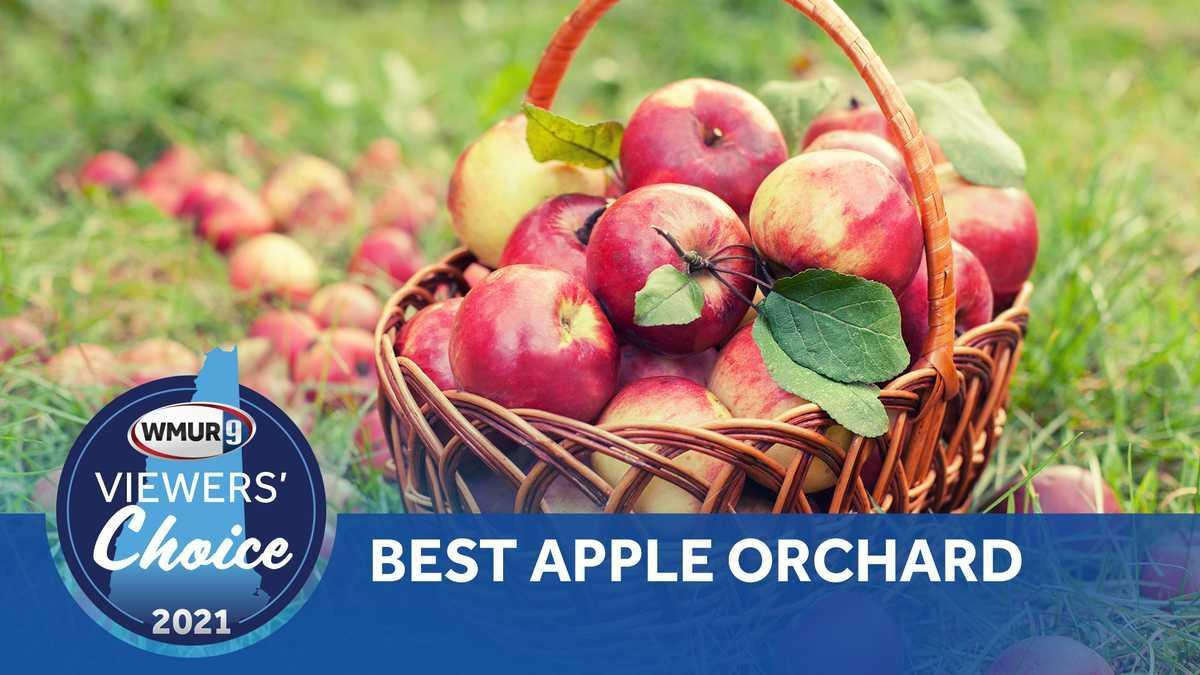apple: (583, 182, 761, 357), (442, 264, 621, 430), (449, 105, 622, 266), (752, 152, 923, 305), (616, 76, 790, 219), (597, 377, 748, 509), (936, 169, 1042, 309)
